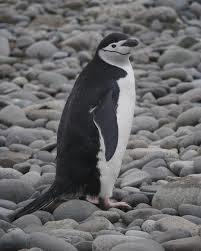chinstrap: (38, 18, 147, 220)
